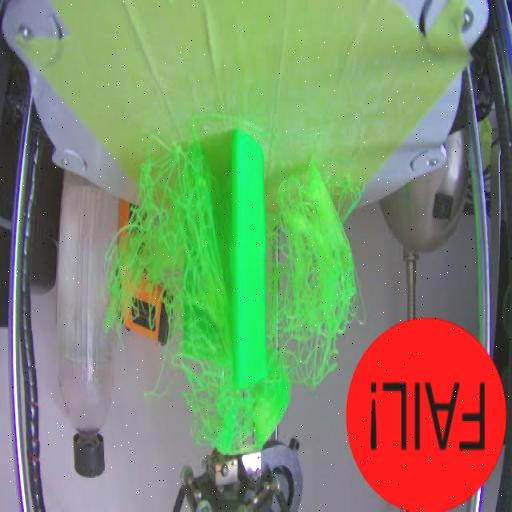spaghetti: (101, 114, 235, 380), (272, 136, 366, 386), (192, 389, 296, 464)
